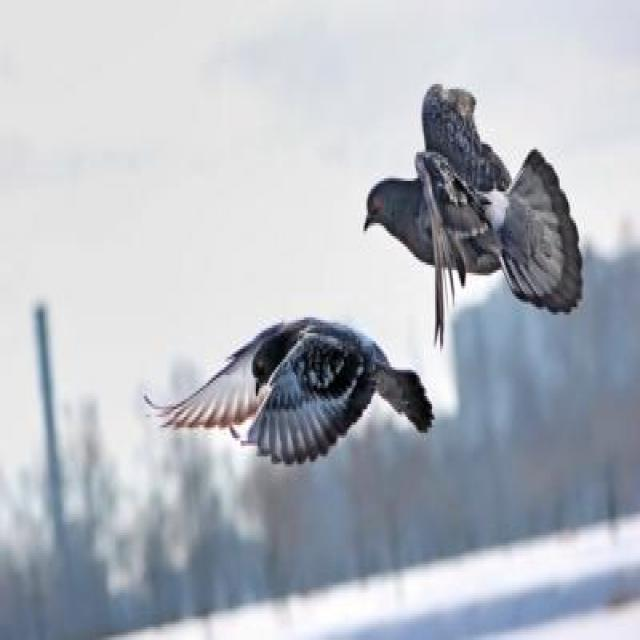birds: (346, 50, 598, 357), (140, 308, 445, 511)
